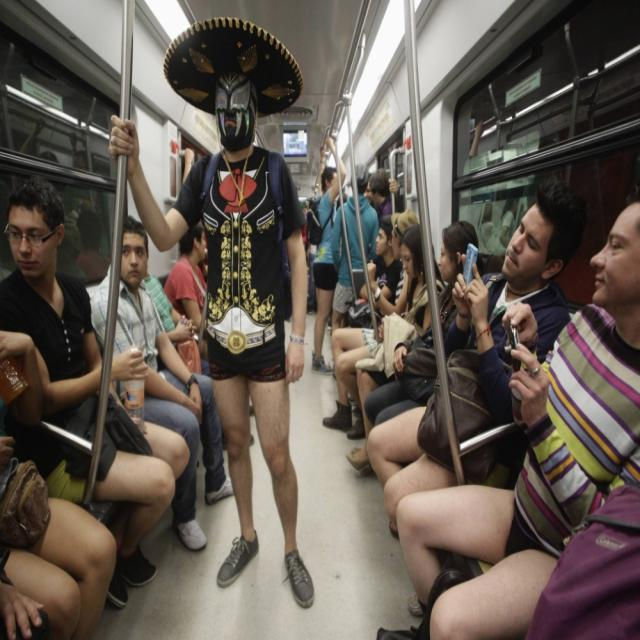body: (107, 10, 317, 612), (374, 198, 640, 638), (0, 174, 190, 611), (366, 193, 573, 525), (87, 214, 235, 554), (0, 328, 116, 639), (104, 213, 226, 456), (362, 217, 487, 436), (345, 221, 447, 476), (322, 205, 420, 443), (18, 117, 106, 280), (334, 212, 404, 412), (302, 132, 348, 376), (468, 115, 524, 267), (330, 161, 380, 331), (162, 220, 211, 363), (304, 194, 324, 316), (524, 135, 558, 194), (365, 170, 403, 220), (182, 144, 195, 190), (300, 198, 308, 248), (306, 148, 318, 174), (336, 194, 347, 212), (326, 308, 334, 327), (310, 194, 314, 199)
